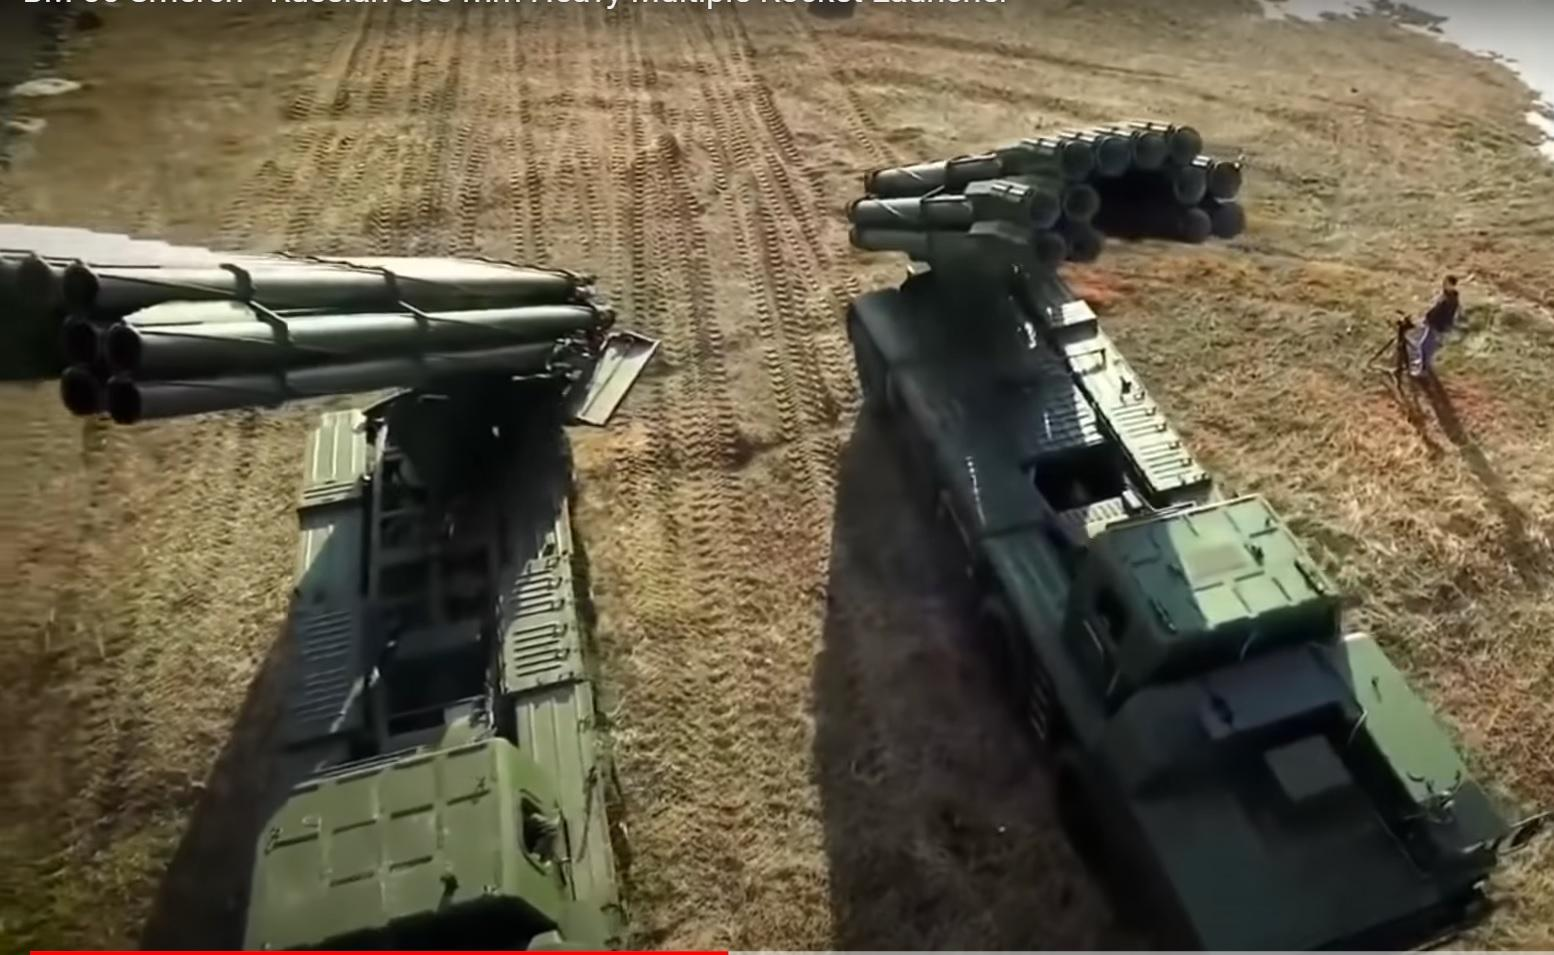MIL_SAM_TEL: (837, 109, 1517, 955), (0, 190, 620, 955)
